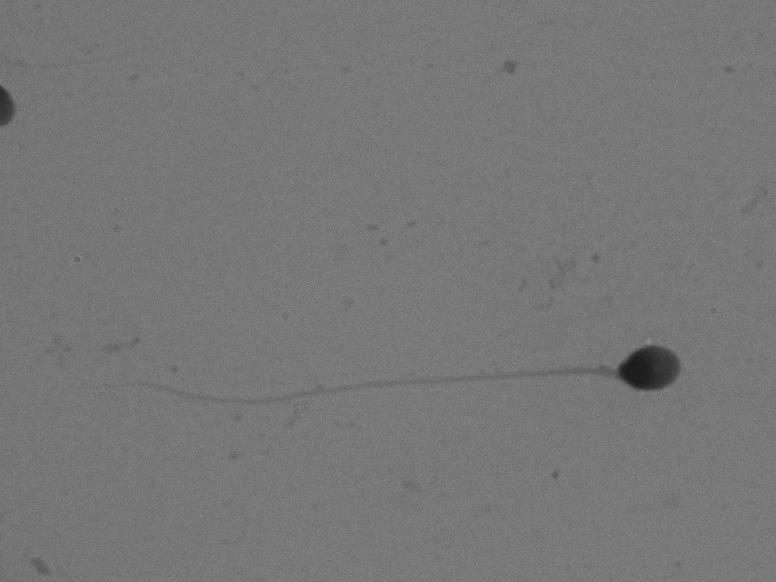Normal: (52, 322, 695, 430)
